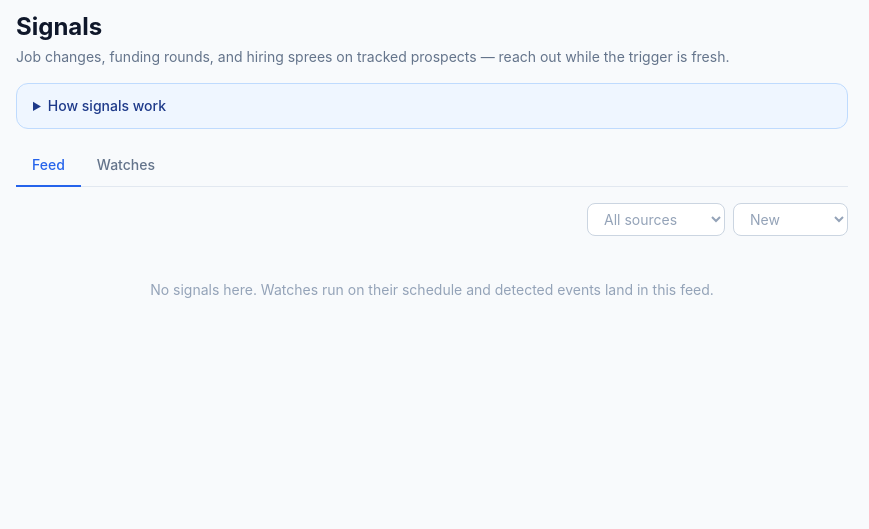
Scenario: Signals page › save disabled without the per-type required field
Expected: the text with test id "signals-empty" is shown, 150,281 -> 714,298
Click the tab "Watches". click: [126, 166]
box: 81,145 -> 171,187
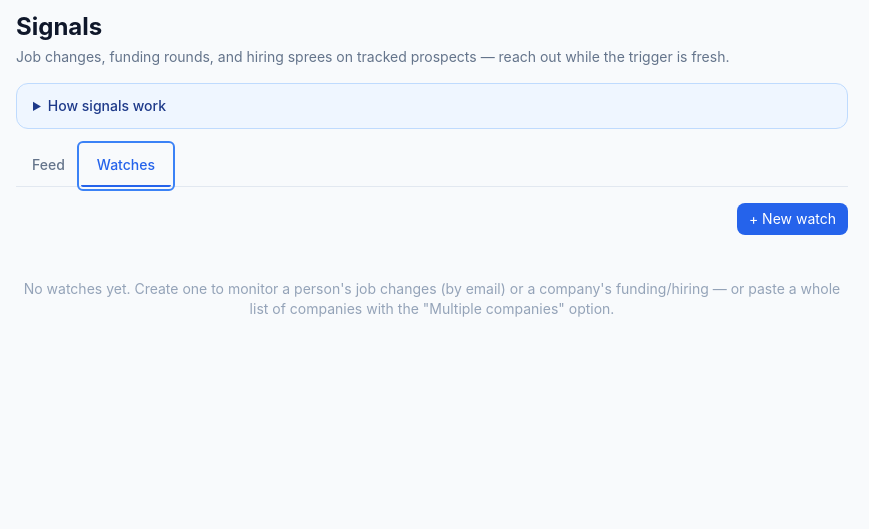
Click the button with test id "new-watch-btn". click: [792, 219]
box: 737,203 -> 848,235
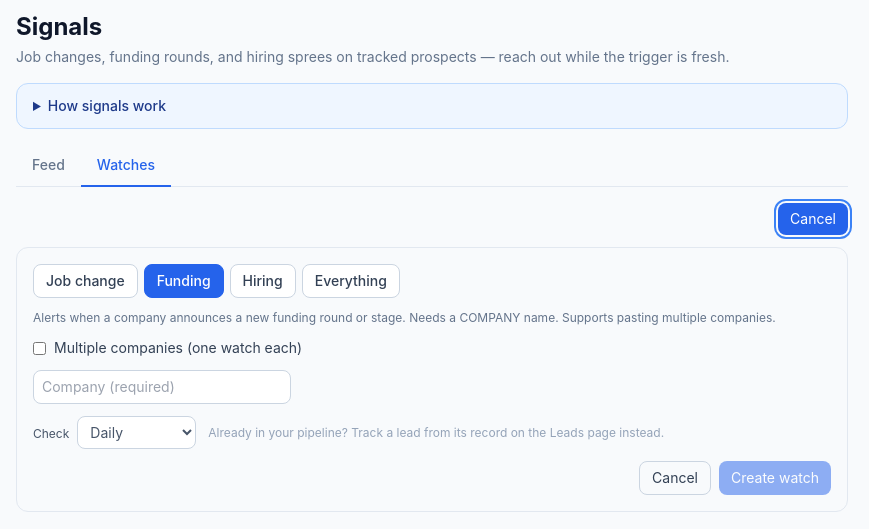
Expected: the text with test id "watch-type-desc" shows "company", 33,310 -> 776,325
Expected: the button with test id "save-watch-btn" is disabled, 719,461 -> 831,495
Note: Job change requires an email — company field alone doesn't enable.
Click the button with test id "watch-type-job_change". click: [85, 281]
box: 33,264 -> 138,298
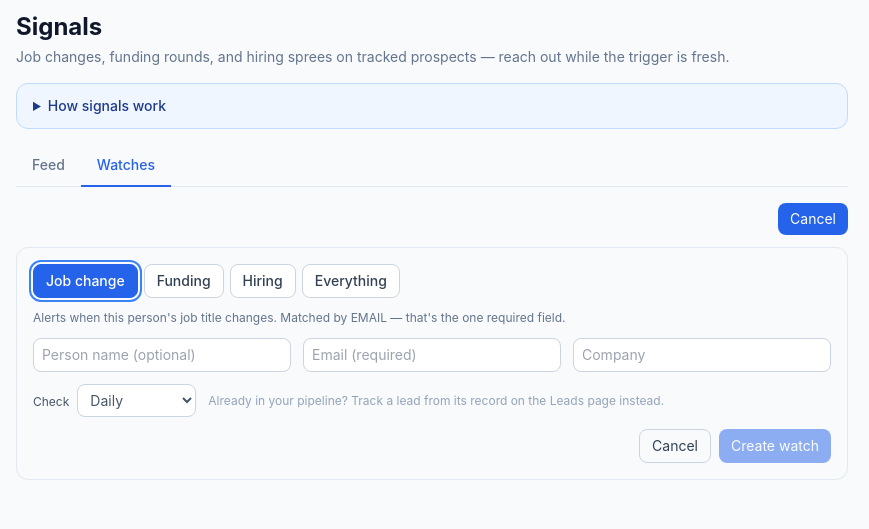
Expected: the button with test id "save-watch-btn" is disabled, 719,429 -> 831,463
Expected: the text with test id "watch-type-desc" shows "EMAIL", 33,310 -> 566,325
Type "jane@acme.com" into the field with test id "watch-email". click: [432, 355]
box: 303,338 -> 561,372
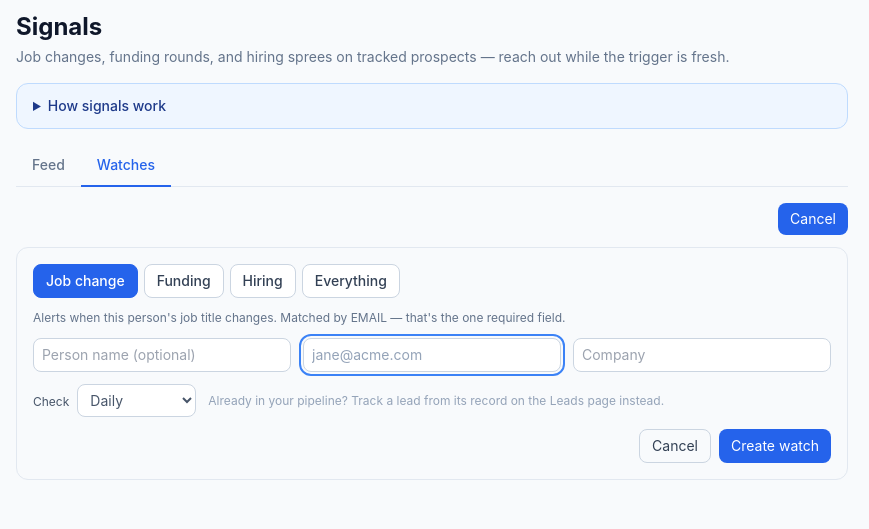
Expected: the button with test id "save-watch-btn" is enabled, 719,429 -> 831,463
